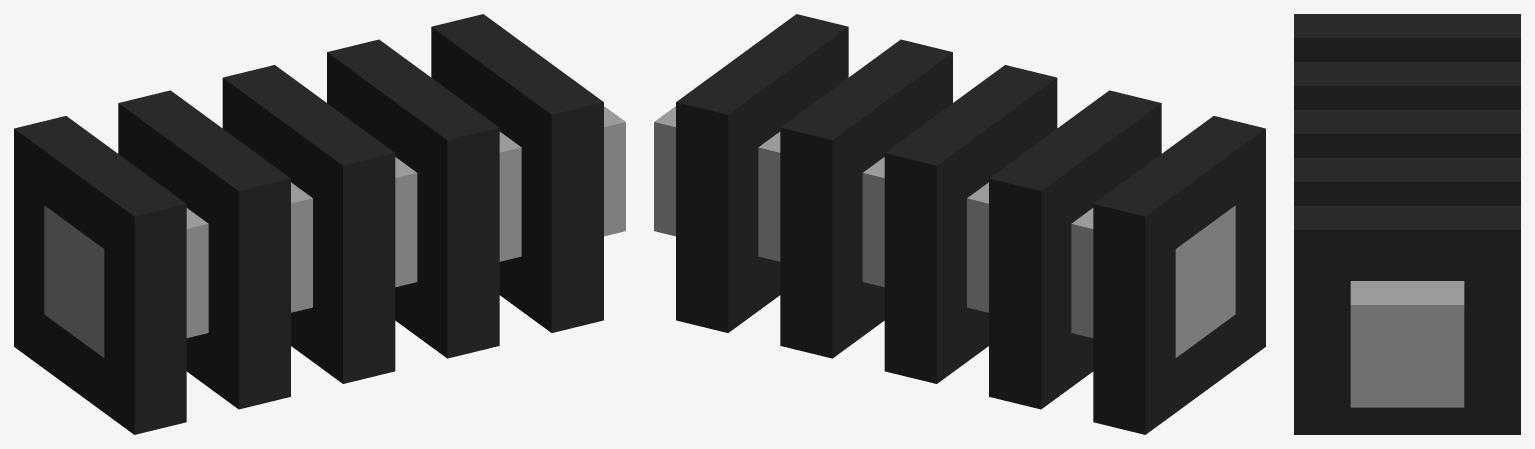
The model's file is Robot_vox-1-27.obj.
3 views of the same model, side by side, from view 1: azimuth 30°, elevation 25°; view 2: azimuth 150°, elevation 25°; view 3: azimuth 270°, elevation 25° (orthographic). The views are drawn at different scales.
Size of the model in its own units: 1 by 0.4 by 0.4.
1 material, 1 textured.
